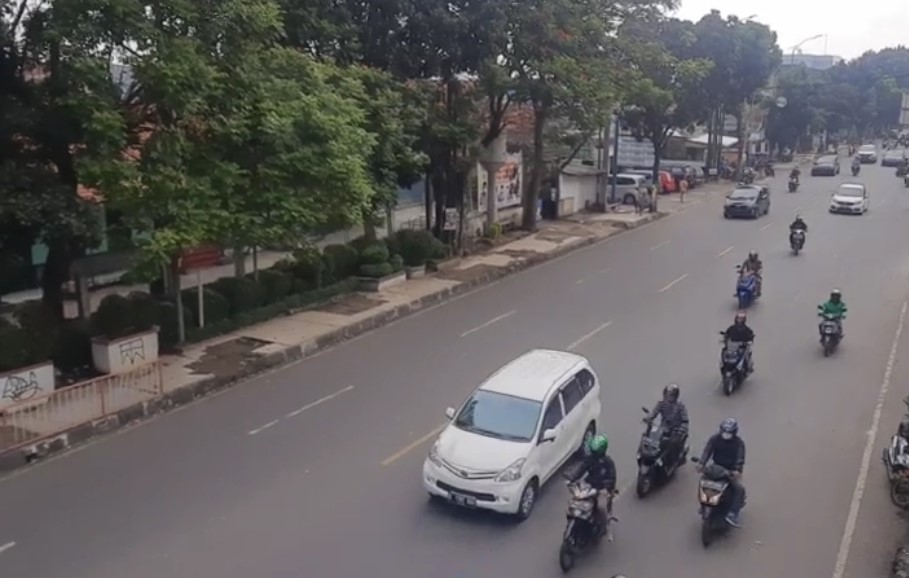motor: (549, 445, 617, 562), (693, 420, 756, 543), (632, 378, 691, 498), (712, 311, 759, 391), (811, 287, 851, 354), (729, 251, 772, 313), (783, 214, 813, 254)
